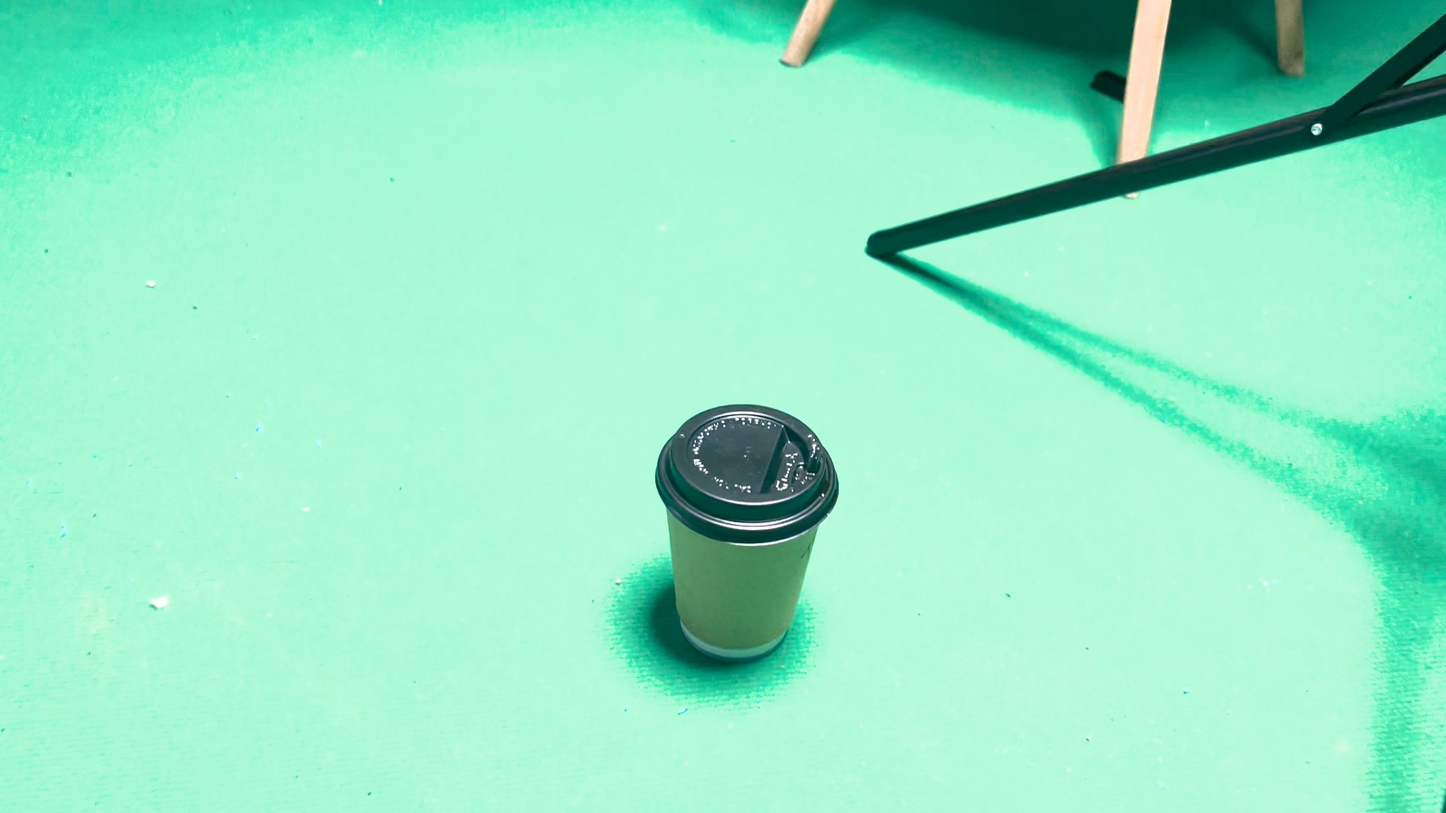cup: (737, 458, 832, 588)
